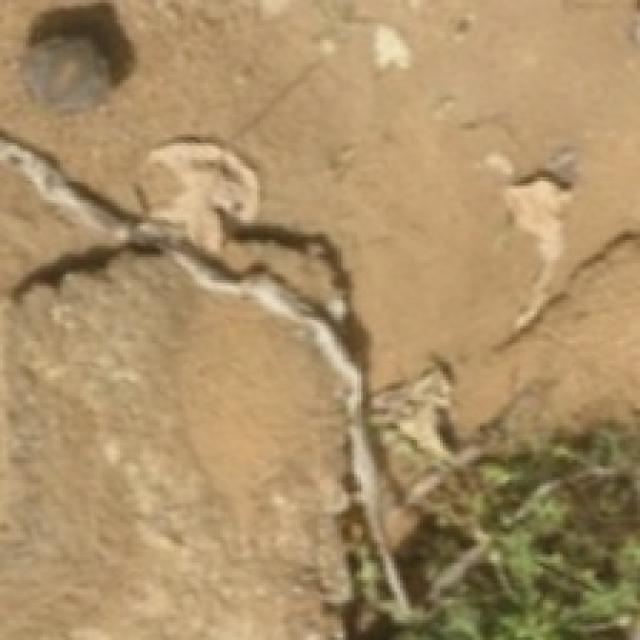king cobra: (0, 131, 374, 637)
